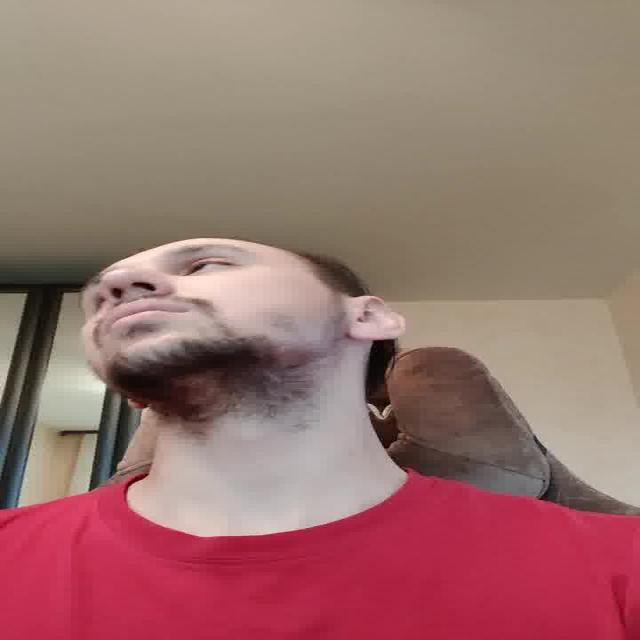earlobe: (344, 296, 408, 341)
